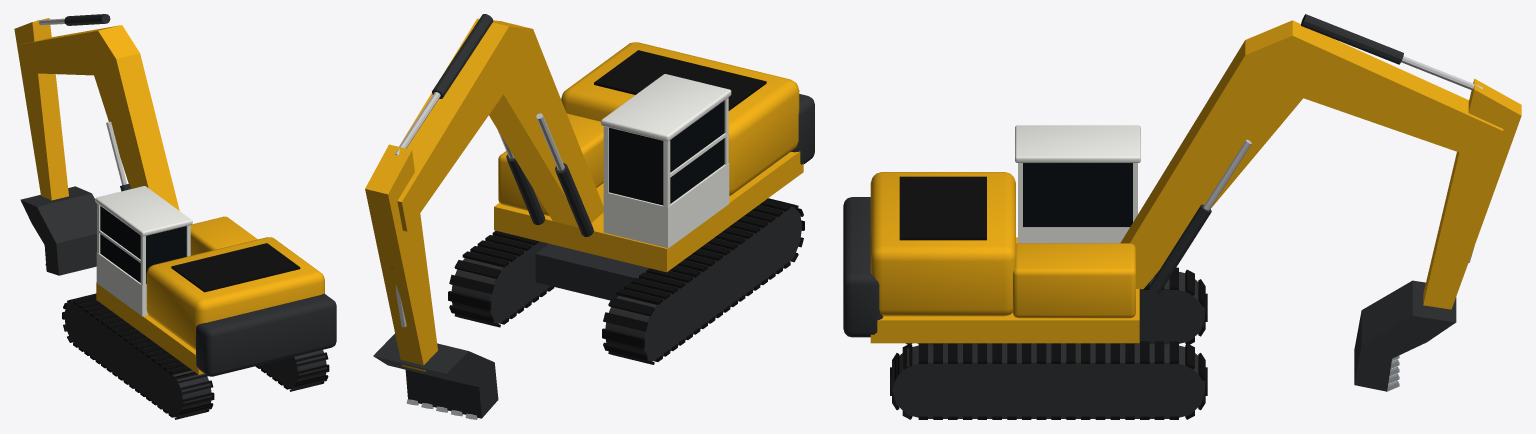
File: plant.excavator.midi.glb
The picture shows the model from 3 angles, left to right: view 1: azimuth 30°, elevation 25°; view 2: azimuth 150°, elevation 25°; view 3: azimuth 270°, elevation 25°; orthographic projection. The views are drawn at different scales.
Parts seen in each view (by area): view 1: upper__plant_yellow, boom__plant_yellow, upper__steel_dark, tracks__steel_dark, upper__paint_white, bucket__steel_dark, stick__plant_yellow, tracks__plastic_black, upper__plastic_black, upper__glass_dark, boom__steel_stainless, boom__steel_dark; view 2: upper__plant_yellow, boom__plant_yellow, tracks__steel_dark, upper__paint_white, tracks__plastic_black, stick__plant_yellow, upper__glass_dark, bucket__steel_dark, upper__plastic_black, boom__steel_dark, boom__steel_stainless, upper__steel_dark; view 3: upper__plant_yellow, boom__plant_yellow, tracks__steel_dark, stick__plant_yellow, upper__paint_white, upper__glass_dark, tracks__plastic_black, bucket__steel_dark, upper__plastic_black, upper__steel_dark, boom__steel_dark, boom__steel_stainless.
Boxes of the visible parts, bbox=[...] form: upper__plant_yellow: bbox=[96, 216, 324, 374]; boom__plant_yellow: bbox=[18, 25, 179, 210]; upper__steel_dark: bbox=[196, 293, 336, 376]; tracks__steel_dark: bbox=[64, 300, 326, 417]; upper__paint_white: bbox=[95, 186, 192, 316]; bucket__steel_dark: bbox=[20, 186, 96, 275]; stick__plant_yellow: bbox=[14, 18, 68, 200]; tracks__plastic_black: bbox=[62, 293, 329, 419]; upper__plastic_black: bbox=[171, 243, 300, 292]; upper__glass_dark: bbox=[100, 206, 186, 284]; boom__steel_stainless: bbox=[37, 18, 126, 185]; boom__steel_dark: bbox=[64, 14, 130, 191]; upper__plant_yellow: bbox=[494, 42, 803, 272]; boom__plant_yellow: bbox=[397, 18, 603, 231]; tracks__steel_dark: bbox=[451, 205, 802, 361]; upper__paint_white: bbox=[601, 74, 731, 248]; tracks__plastic_black: bbox=[448, 198, 804, 364]; stick__plant_yellow: bbox=[365, 144, 437, 371]; upper__glass_dark: bbox=[609, 100, 724, 205]; bucket__steel_dark: bbox=[373, 333, 498, 418]; upper__plastic_black: bbox=[594, 50, 766, 110]; boom__steel_dark: bbox=[432, 14, 593, 236]; boom__steel_stainless: bbox=[394, 92, 564, 170]; upper__steel_dark: bbox=[791, 94, 814, 164]; upper__plant_yellow: bbox=[870, 172, 1139, 343]; boom__plant_yellow: bbox=[1120, 20, 1503, 289]; tracks__steel_dark: bbox=[892, 272, 1204, 418]; stick__plant_yellow: bbox=[1423, 78, 1521, 309]; upper__paint_white: bbox=[1015, 125, 1140, 243]; upper__glass_dark: bbox=[1023, 163, 1132, 227]; tracks__plastic_black: bbox=[890, 267, 1207, 419]; bucket__steel_dark: bbox=[1354, 280, 1456, 391]; upper__plastic_black: bbox=[899, 176, 986, 240]; upper__steel_dark: bbox=[843, 197, 883, 337]; boom__steel_dark: bbox=[1148, 14, 1403, 293]; boom__steel_stainless: bbox=[1203, 56, 1482, 210].
Size of the model in its own units: 2.07 by 3.75 by 6.34.
